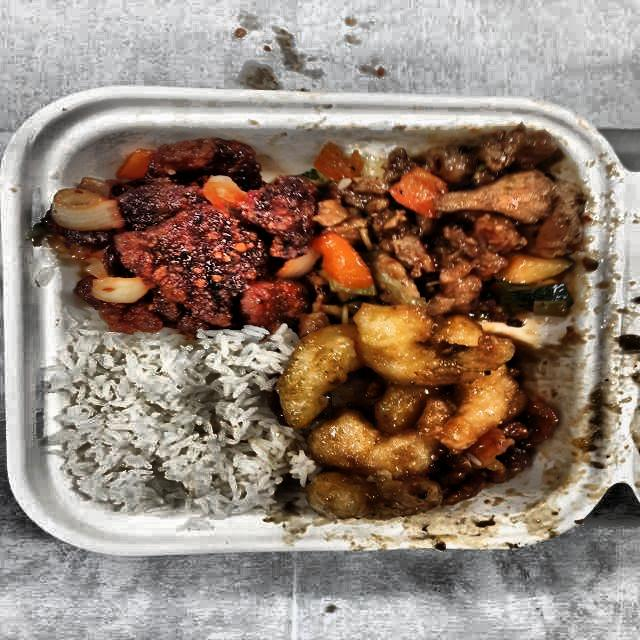Food: (305, 124, 604, 336), (273, 300, 543, 524), (43, 128, 318, 334), (55, 332, 278, 513)
